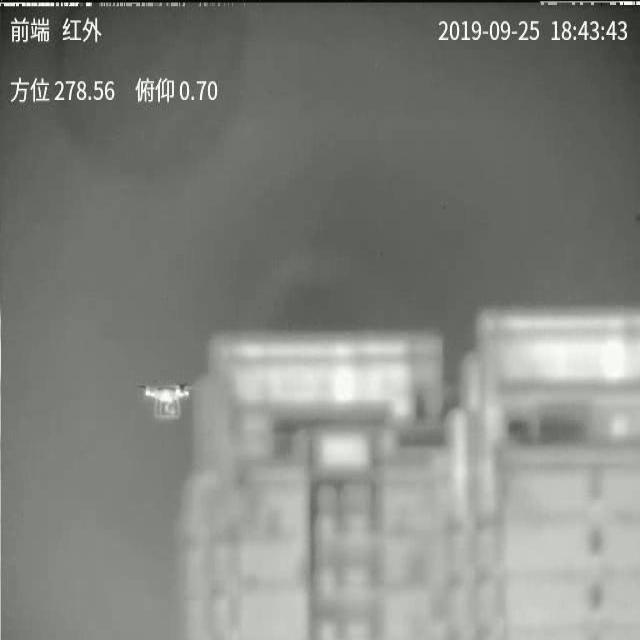drone: (133, 382, 192, 421)
